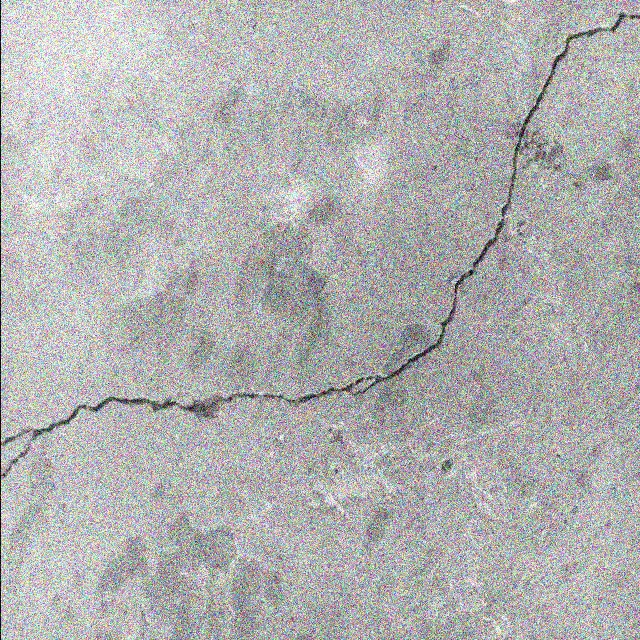SurfaceCrack: (1, 2, 640, 494)
